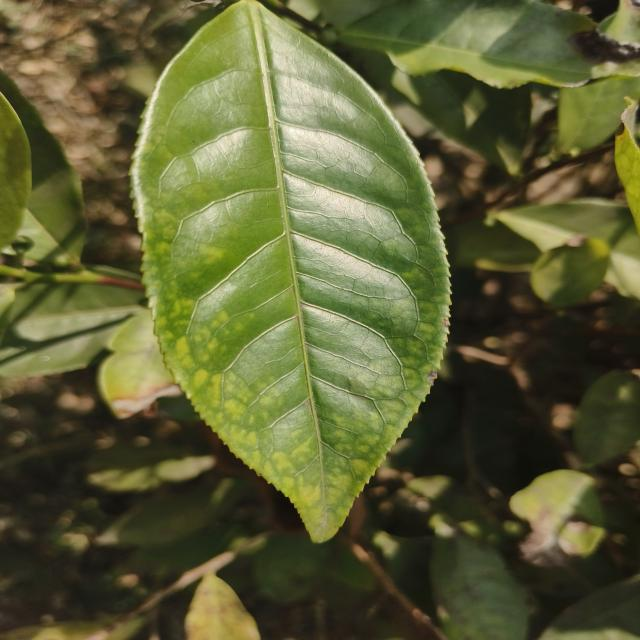Leaf: (132, 0, 449, 542), (339, 0, 640, 88), (0, 72, 85, 266), (391, 69, 531, 173), (494, 198, 640, 297), (0, 283, 146, 377), (430, 525, 527, 640), (96, 478, 239, 546), (510, 470, 606, 566), (98, 310, 182, 418), (556, 76, 640, 154), (87, 442, 215, 492), (574, 371, 640, 465), (531, 238, 609, 306), (185, 573, 260, 640), (255, 534, 330, 601)
